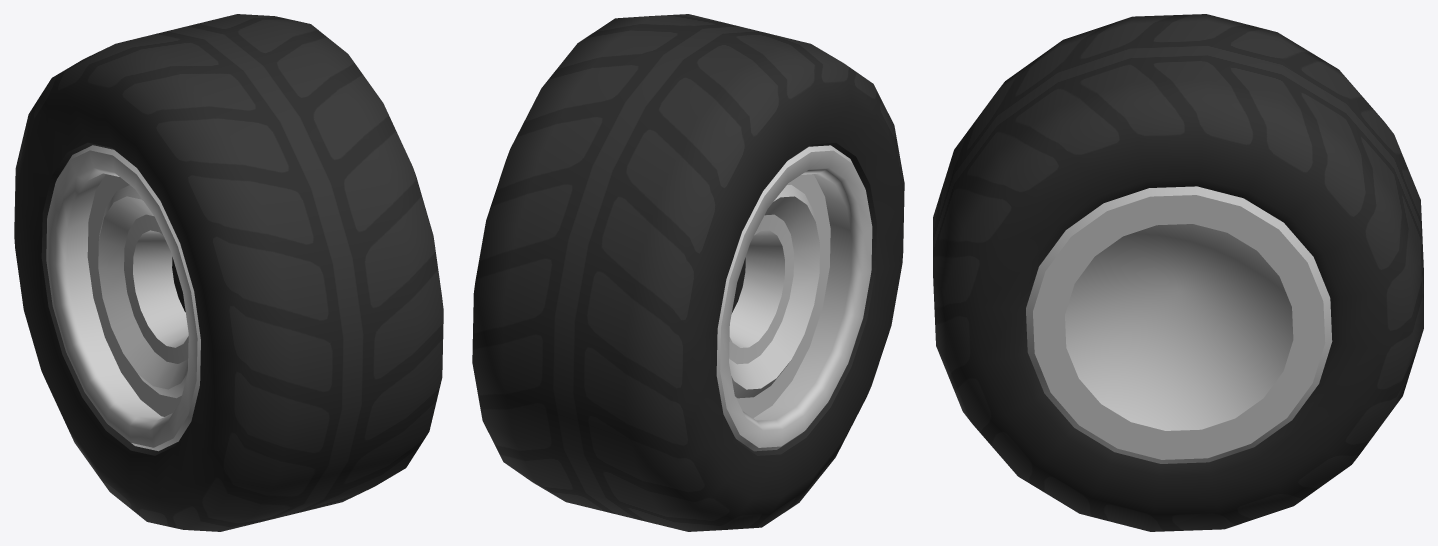
Rendered from Car_01_Wheel_FR.fbx.
3 views of the same model, side by side, from view 1: azimuth 30°, elevation 25°; view 2: azimuth 150°, elevation 25°; view 3: azimuth 270°, elevation 25° (orthographic).
Parts seen in each view (by area): view 1: Car_01_Wheel_FR; view 2: Car_01_Wheel_FR; view 3: Car_01_Wheel_FR.
Part boxes in pixels (left/top/right/bottom): Car_01_Wheel_FR: left=14, top=14, right=443, bottom=531; Car_01_Wheel_FR: left=472, top=14, right=904, bottom=531; Car_01_Wheel_FR: left=933, top=14, right=1423, bottom=531.
Size of the model in its own units: 50 by 95 by 95.
